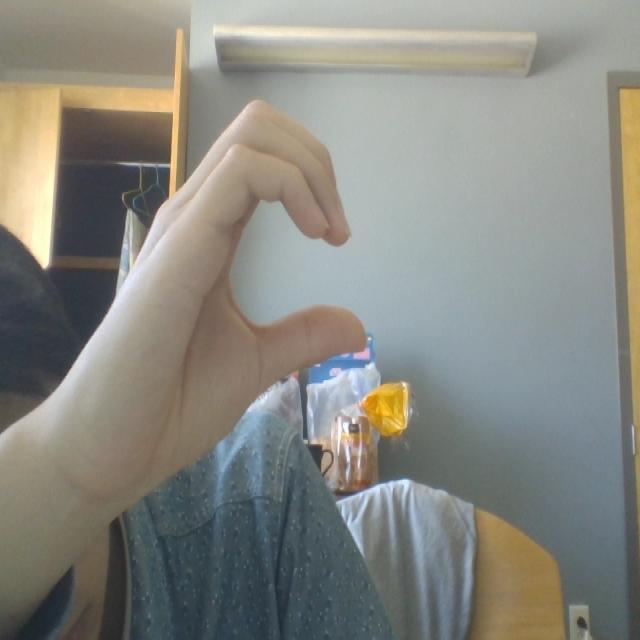C: (63, 63, 420, 524)
